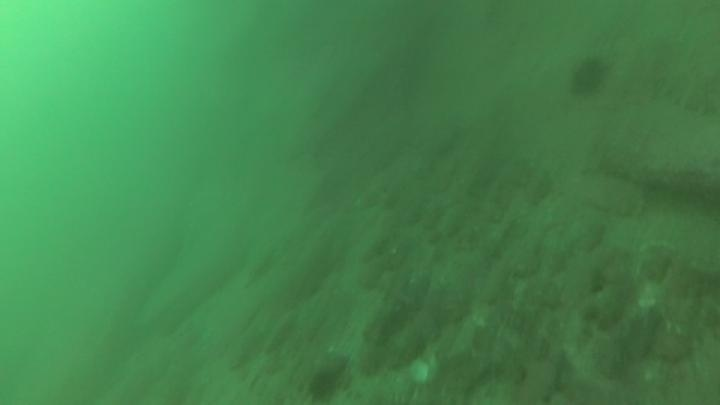echinus: (566, 54, 611, 100), (304, 366, 345, 403)
holothurian: (646, 37, 719, 118)
